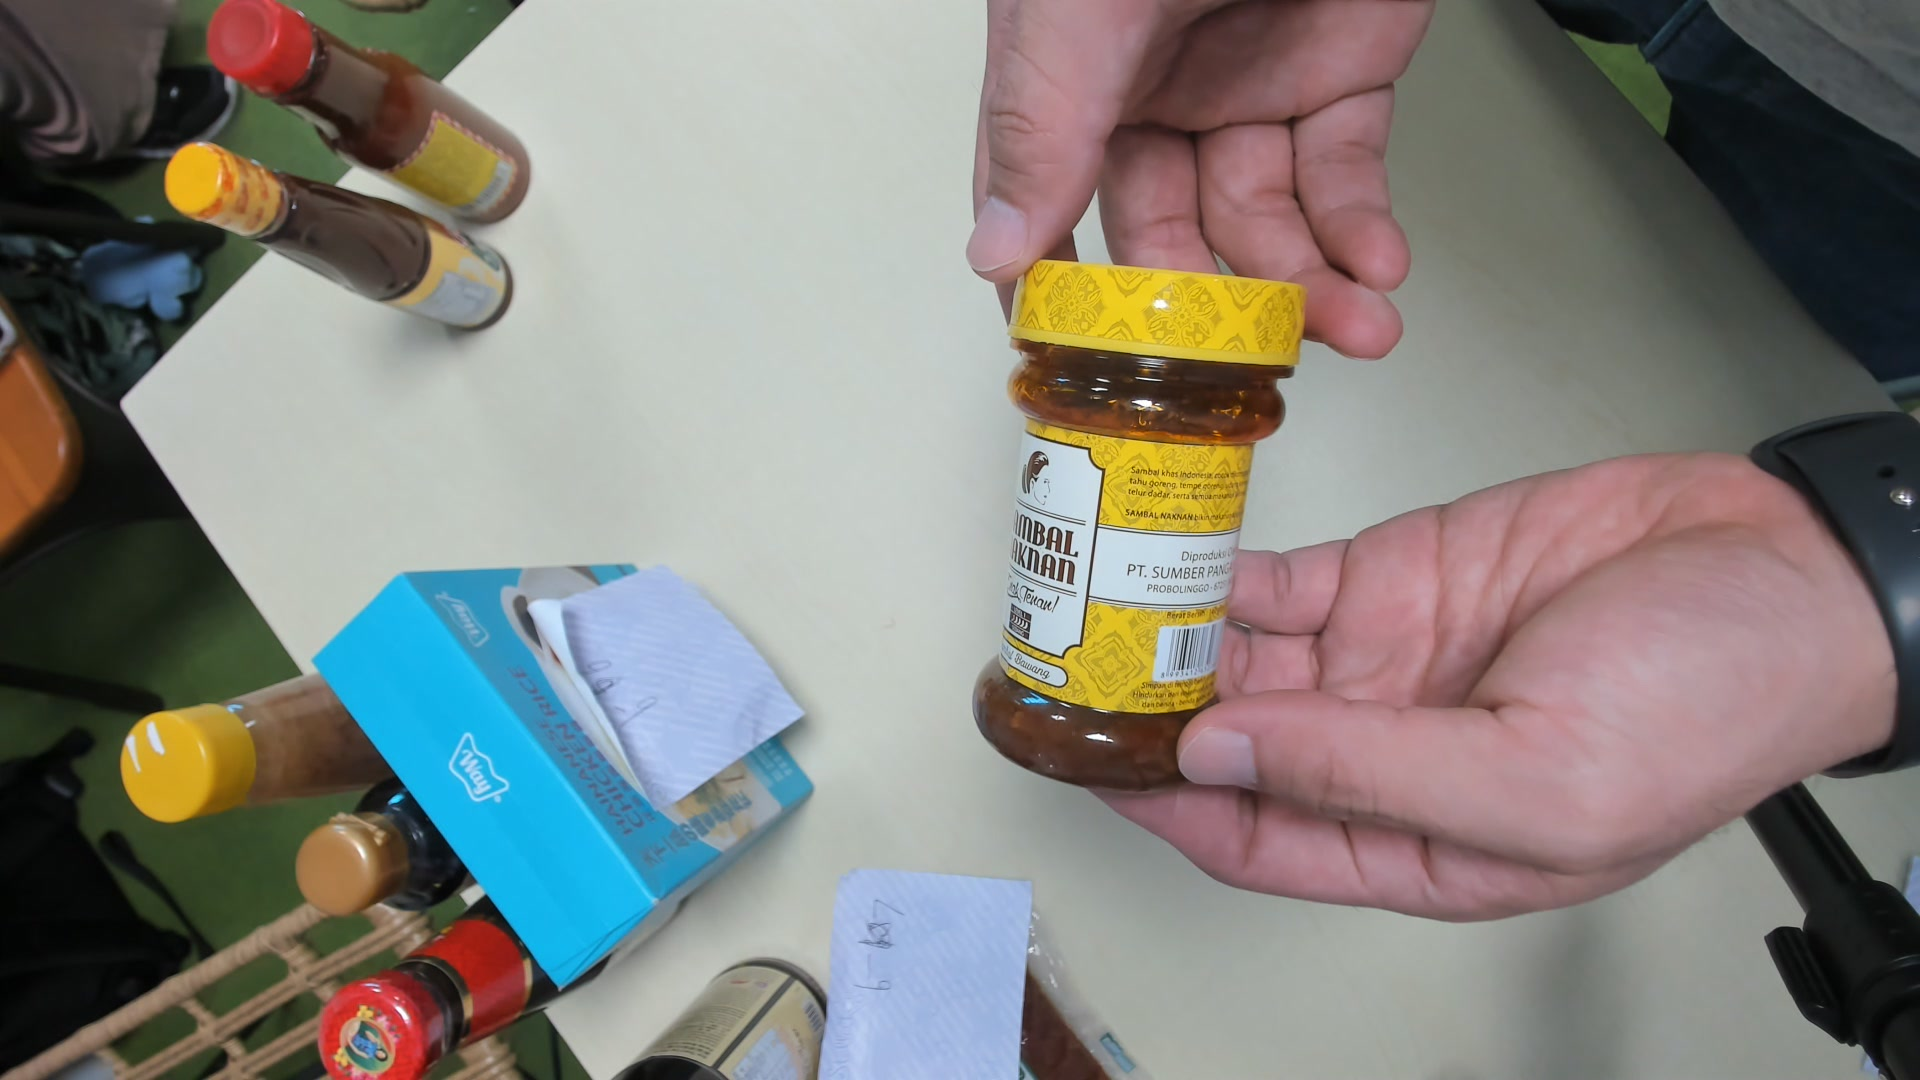KetchupChillSauce_100-199g_Halal_NonHealthy: (967, 247, 1305, 787)
